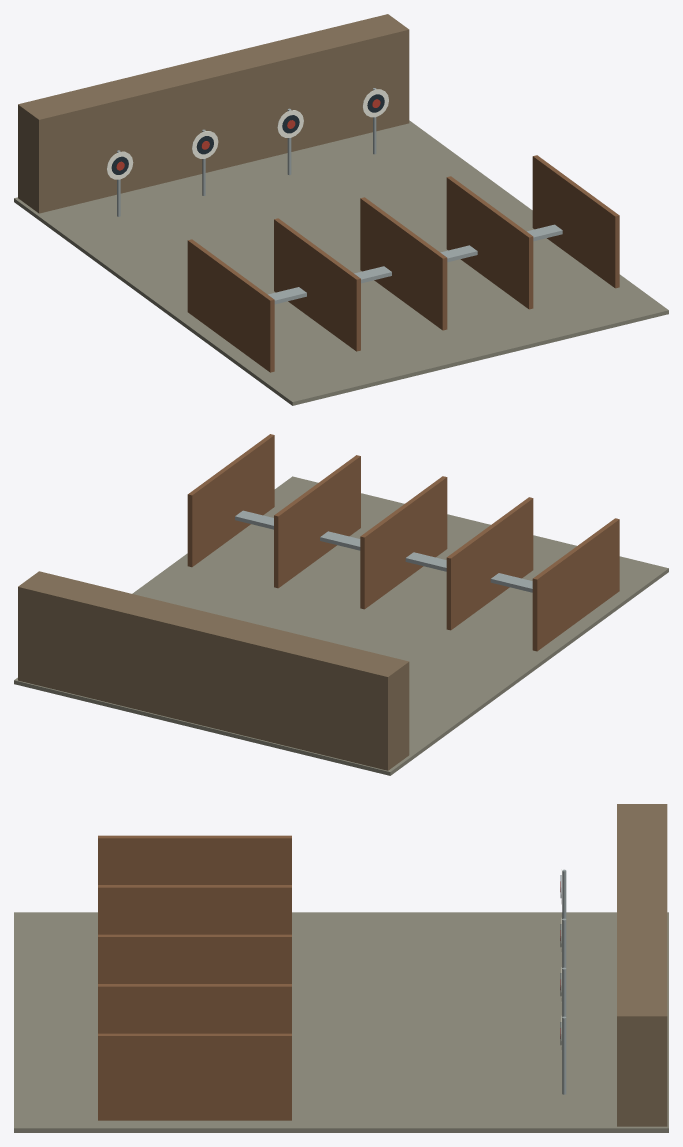
File: scendance-plan-shooting-range.glb
3 views of the same model, one above another, from view 1: azimuth 30°, elevation 25°; view 2: azimuth 150°, elevation 25°; view 3: azimuth 270°, elevation 25° (orthographic). The views are drawn at different scales.
Size of the model in its own units: 10.3 by 2.55 by 13.2.
